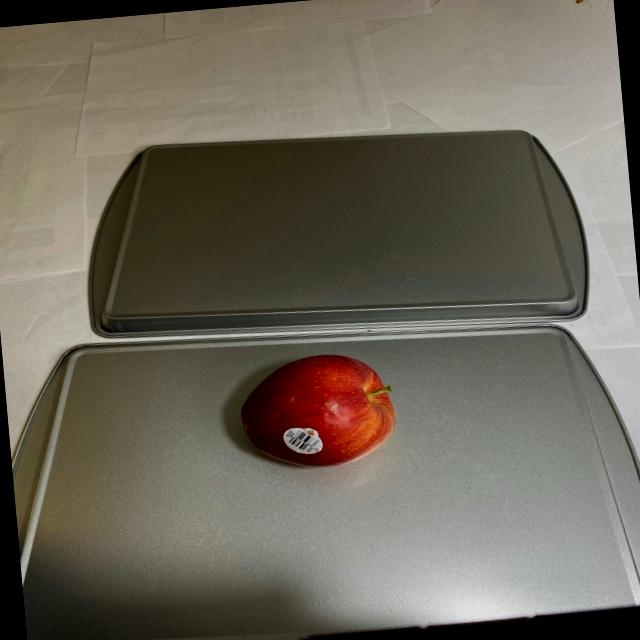apple: (233, 348, 403, 472)
